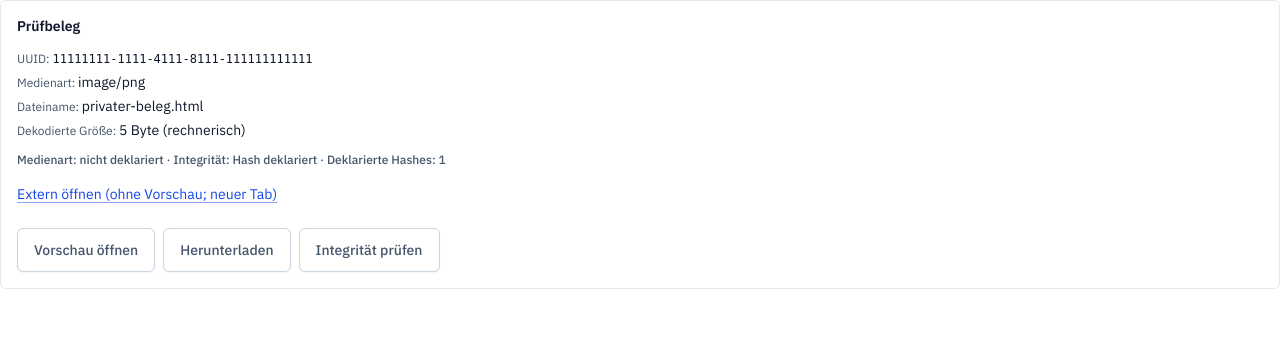
Test case: ordnet bei ausgelassenen fehlgeformten Links keine fremden Hash-Ergebnisse zu
Click the button "Integrität prüfen" at (369, 250), box [299,228,440,272]
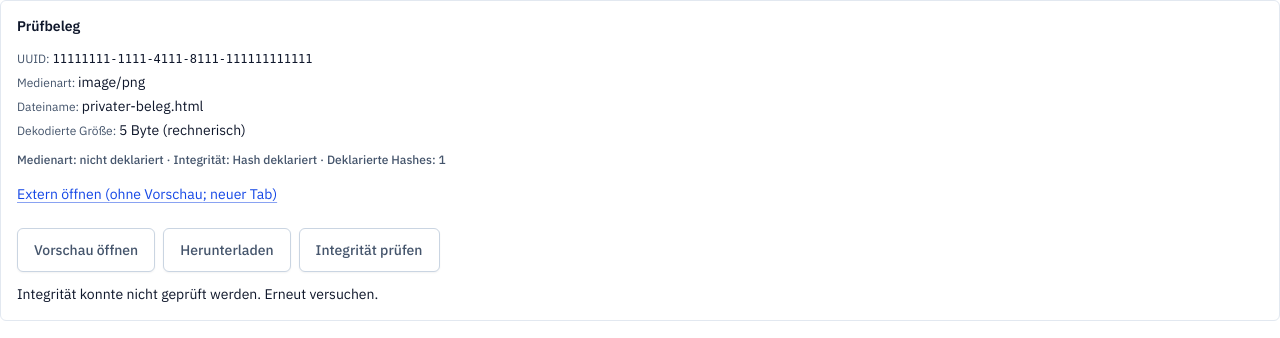
Now the message shows "Integrität konnte nicht geprüft werden", box [17,285,378,303]
